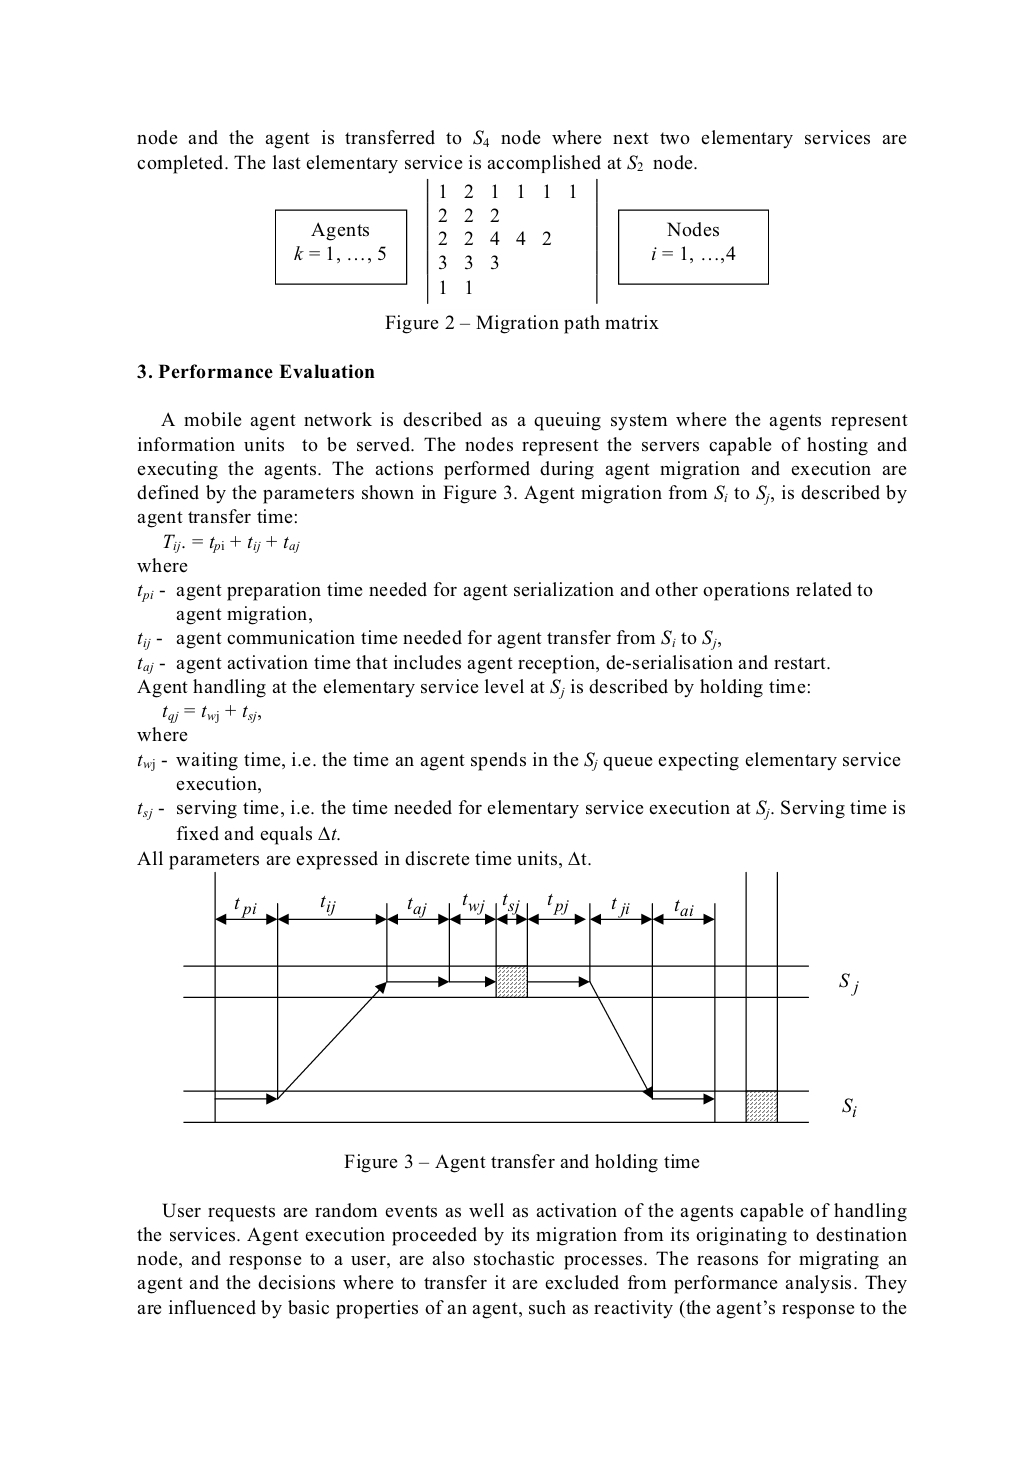figure: (183, 871, 858, 1122), (274, 177, 768, 305)
formula: (163, 532, 299, 553), (162, 704, 260, 723)
